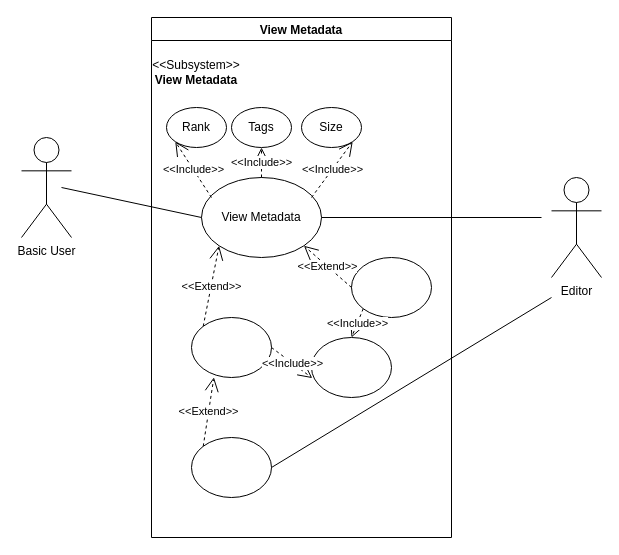
Some shapes in this 619 by 555 pixel diagram are drawn without their labels. Each missing label, with the centre of its shape:
"Classify" goes at (x=231, y=467).
"No Metadata" goes at (x=231, y=347).
"Partial Metadata" goes at (x=391, y=287).
"Report and Return" goes at (x=351, y=367).
